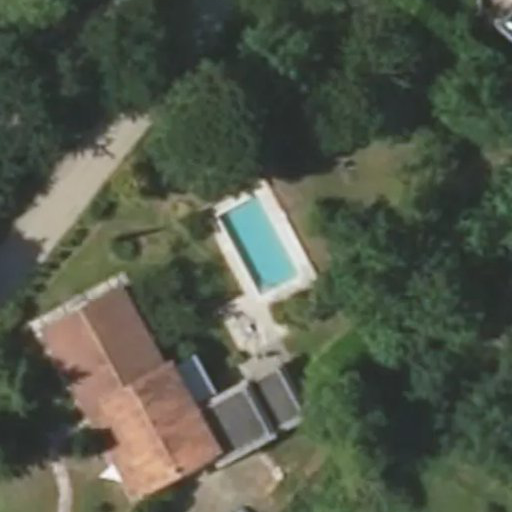pool: (210, 213, 300, 271)
